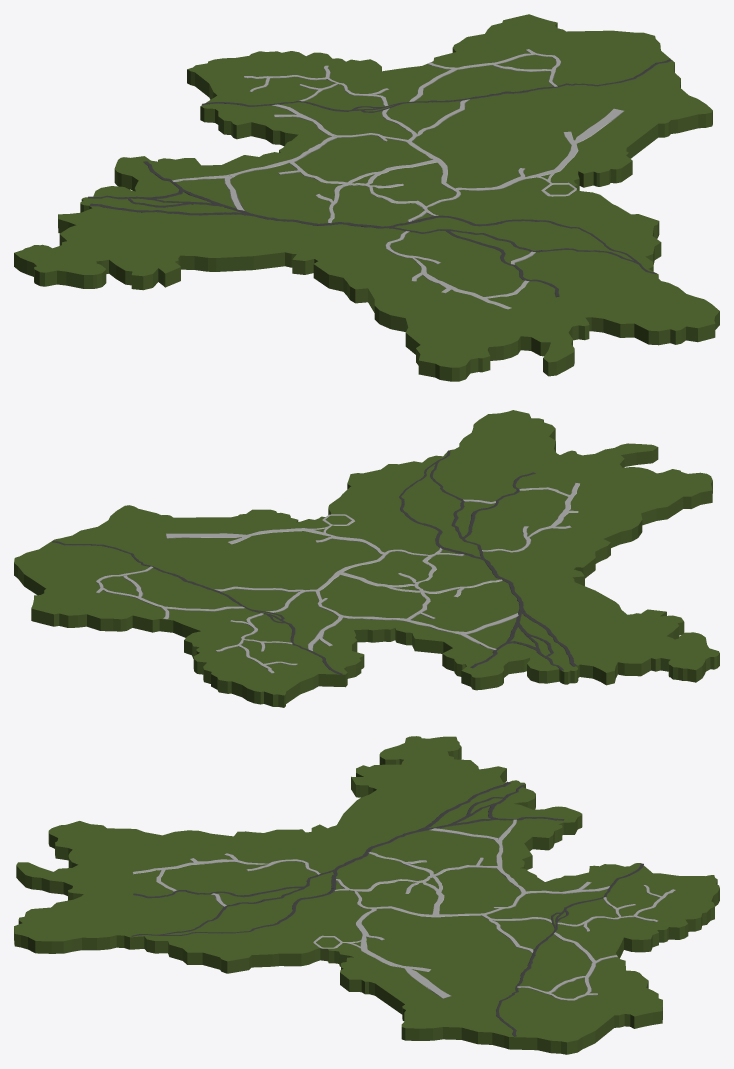
File: Mapa so ulici.fbx
3 renders of one model, top to bottom at view 1: azimuth 30°, elevation 25°; view 2: azimuth 150°, elevation 25°; view 3: azimuth 270°, elevation 25°, orthographic. The views are drawn at different scales.
Visible parts, largest first — view 1: Mapa, Side_Roads, Main_road_1, Main_Road_2; view 2: Mapa, Side_Roads, Main_road_1, Main_Road_2; view 3: Mapa, Side_Roads, Main_road_1, Main_Road_2.
Boxes of the visible parts, left/top/right/bottom form: Mapa: left=14, top=14, right=719, bottom=381; Side_Roads: left=172, top=49, right=624, bottom=309; Main_road_1: left=88, top=161, right=656, bottom=297; Main_Road_2: left=202, top=59, right=671, bottom=112; Mapa: left=14, top=410, right=719, bottom=707; Side_Roads: left=96, top=483, right=579, bottom=673; Main_road_1: left=399, top=451, right=577, bottom=670; Main_Road_2: left=52, top=541, right=342, bottom=674; Mapa: left=14, top=736, right=719, bottom=1054; Side_Roads: left=132, top=819, right=675, bottom=1000; Main_road_1: left=131, top=781, right=564, bottom=936; Main_Road_2: left=496, top=863, right=643, bottom=1036.
Size of the model in its own units: 187704 by 3767 by 182846.
